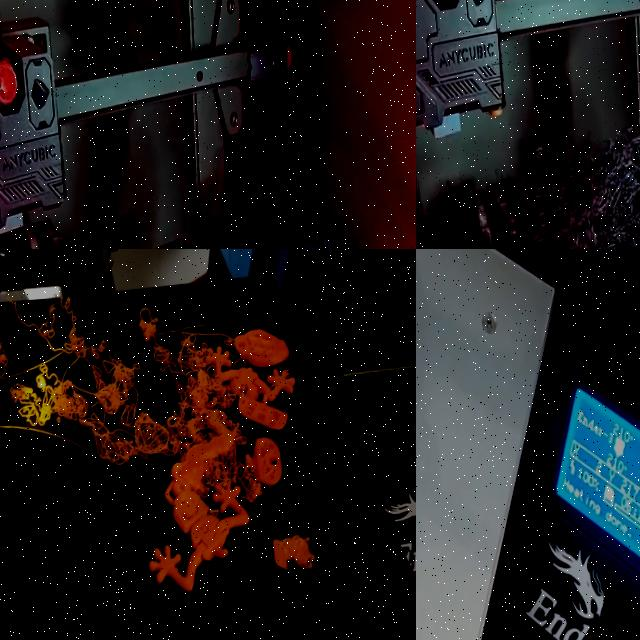spaghetti: (8, 284, 266, 518), (416, 121, 640, 249), (268, 530, 331, 580), (0, 327, 11, 376)
